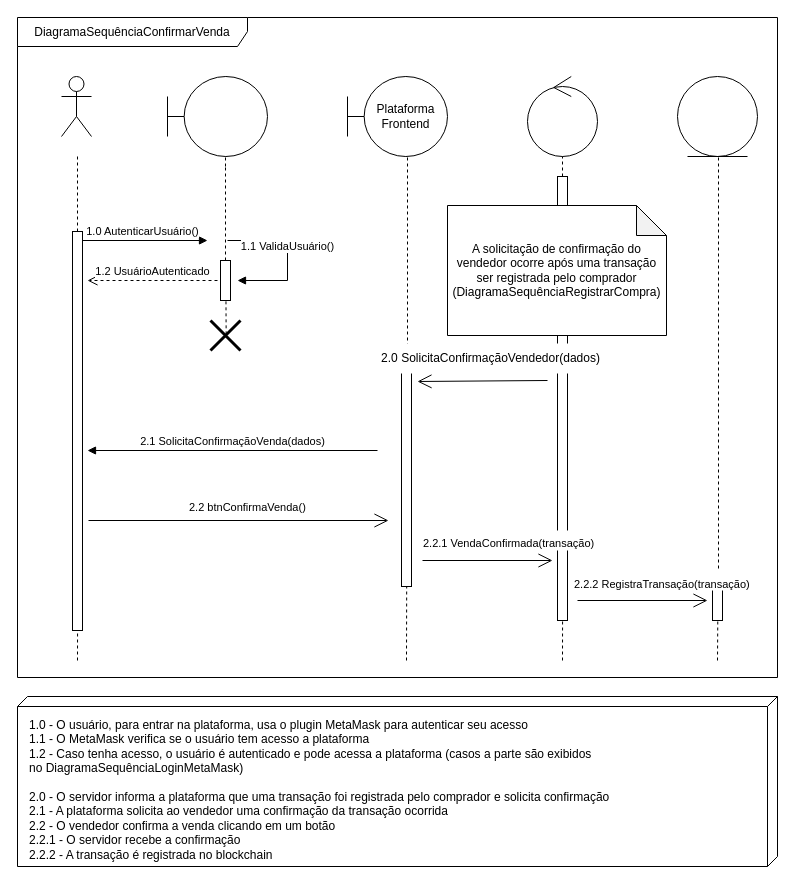
The diagram is 795 pixels wide and 884 high, and some of its shapes have lost their labels. The centre of each missing label's shape, as x and y in pixels:
"Blockchain" goes at (717,116).
"Plugin MetaMask" goes at (217,116).
"Servidor Backend" goes at (562,116).
"Vendedor" goes at (76,106).
